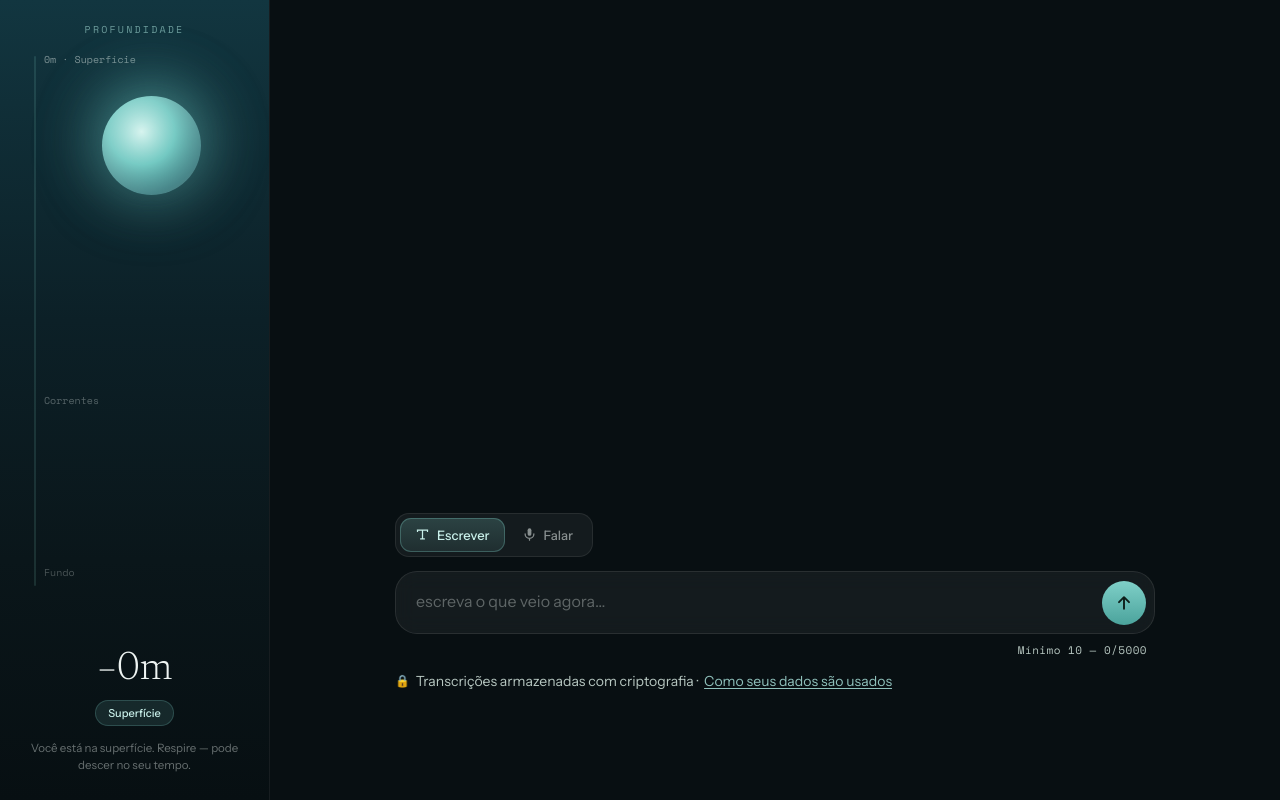
Test case: ChatWindow › exibe a mensagem do usuário imediatamente e a resposta do agente incrementalmente até concluir o streaming
This screenshot has width=1280, height=800.
In the text box named "Sua mensagem": (753, 602) [416,580,1090,625], type "Uma mensagem válida de teste."
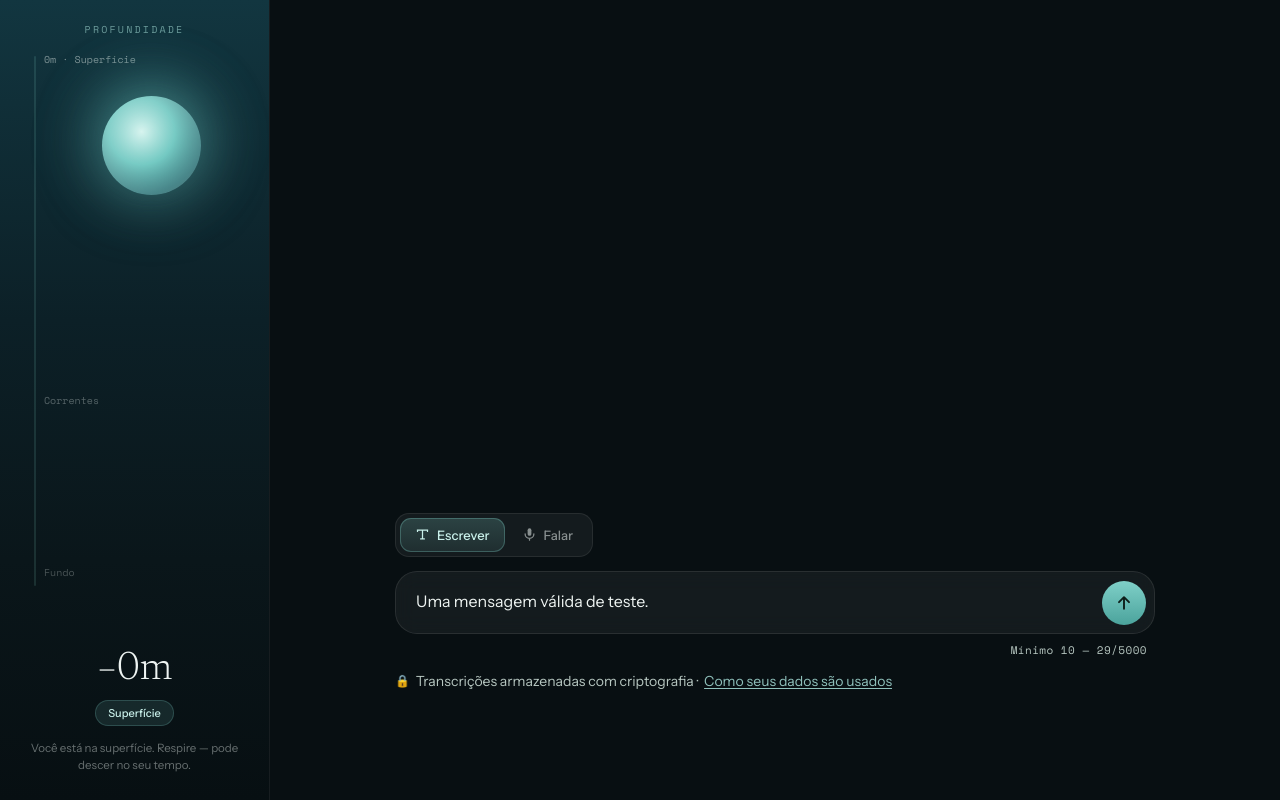
Click the button named "Enviar": (1124, 603) [1102,581,1146,625]
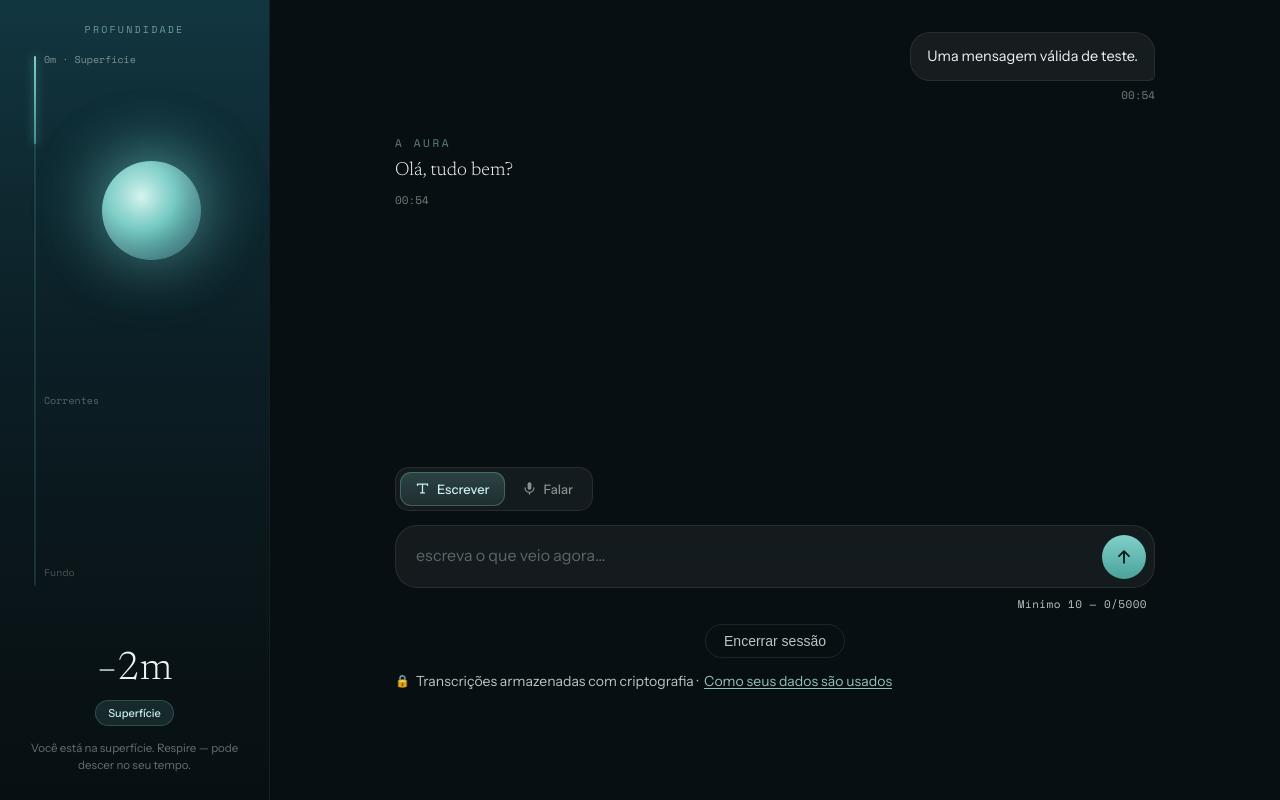
Expected: the button named "Enviar" is enabled, [1102,535,1146,579]
Expected: the text "Uma mensagem válida de teste." is shown, [910,32,1155,81]
Expected: the text "Olá, tudo bem?" is shown, [395,161,513,180]
